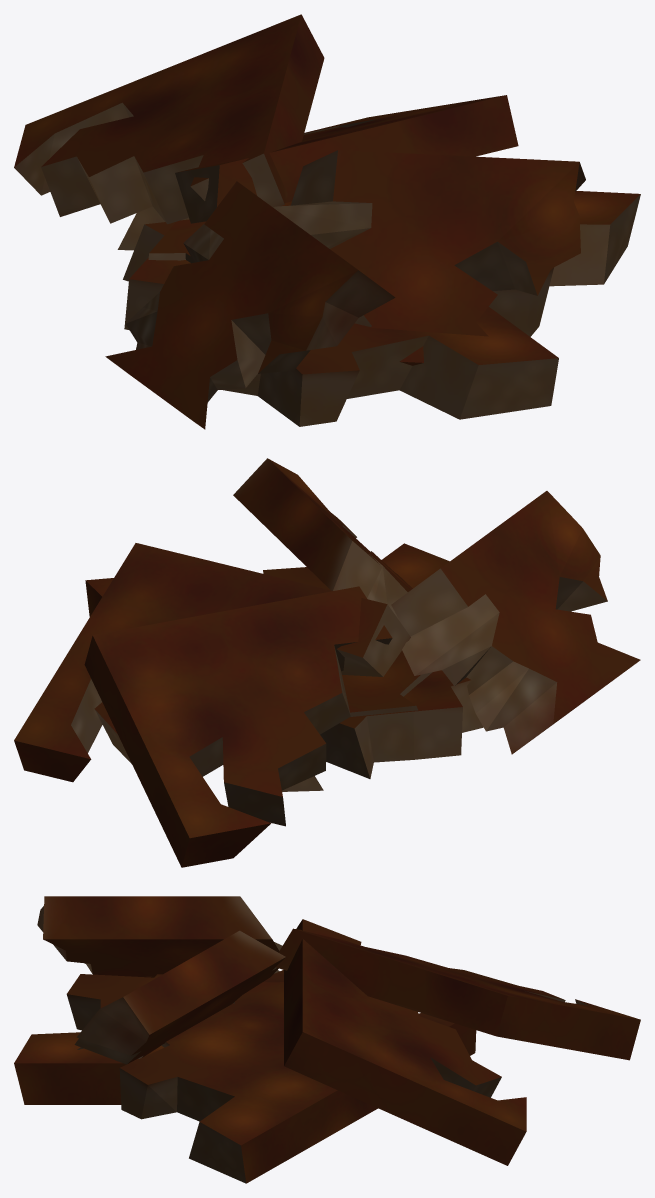
File: rubble.fbx
The picture shows the model from 3 angles, top to bottom: view 1: azimuth 30°, elevation 25°; view 2: azimuth 150°, elevation 25°; view 3: azimuth 270°, elevation 25°; orthographic projection. The views are drawn at different scales.
Parts seen in each view (by area): view 1: Cube.004, Cube.002, Cube.003; view 2: Cube.002, Cube.004, Cube.003; view 3: Cube.002, Cube.003, Cube.004.
Boxes of the visible parts, x1,y1,x2,y2 form: Cube.004: (105, 150, 585, 429); Cube.002: (14, 14, 518, 224); Cube.003: (117, 191, 640, 426); Cube.002: (14, 543, 410, 867); Cube.004: (233, 458, 640, 754); Cube.003: (85, 543, 483, 791); Cube.002: (276, 919, 640, 1165); Cube.003: (14, 970, 476, 1183); Cube.004: (37, 896, 285, 1064).
Bounding box in the file's own units: 643 × 810 × 219.
Materials: 1 (1 with a texture image).
